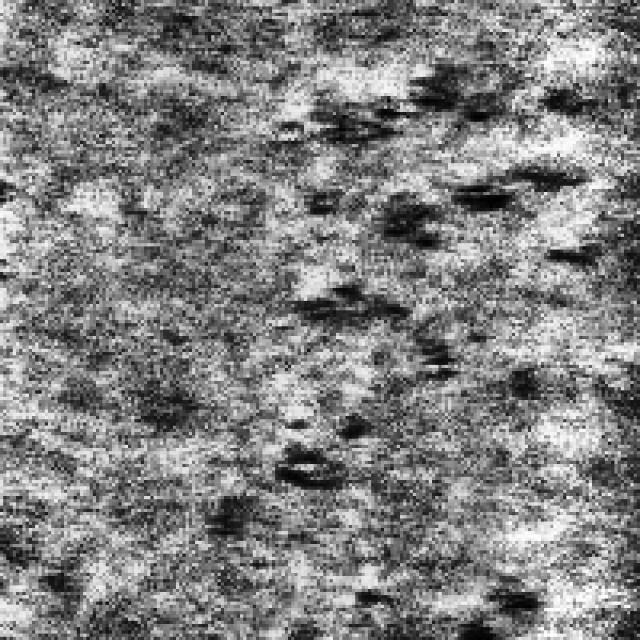Crazing: (269, 275, 461, 490), (316, 140, 602, 282), (292, 45, 534, 132), (458, 570, 548, 636)
